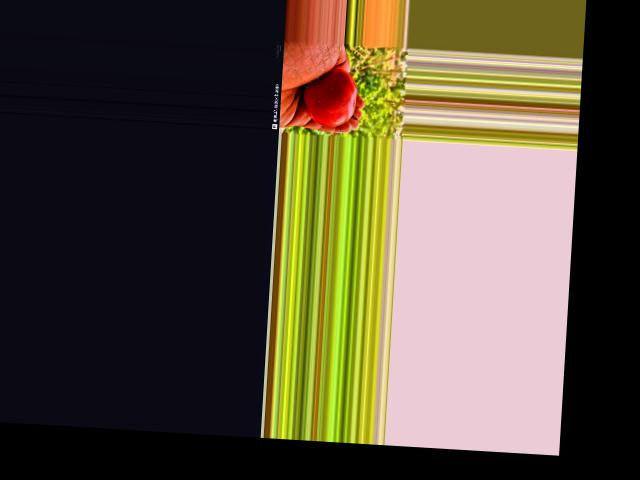tomato: (302, 66, 357, 127)
